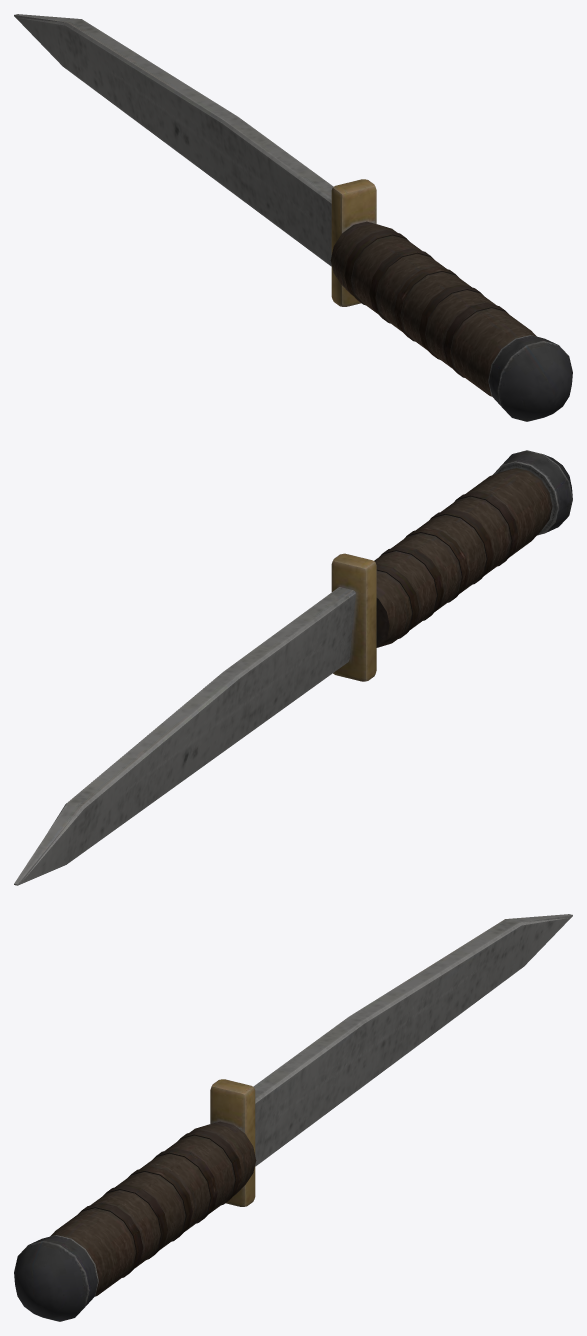
The model's file is explorer_knife.glb.
The picture shows the model from 3 angles, top to bottom: view 1: azimuth 30°, elevation 25°; view 2: azimuth 150°, elevation 25°; view 3: azimuth 330°, elevation 25°; orthographic projection.
Parts seen in each view (by area): view 1: explorer_knife; view 2: explorer_knife; view 3: explorer_knife.
Boxes of the visible parts, bbox=[...] form: explorer_knife: bbox=[14, 14, 572, 421]; explorer_knife: bbox=[14, 450, 572, 885]; explorer_knife: bbox=[14, 914, 572, 1321].
Size of the model in its own units: 0.028 by 0.0416 by 0.3472.
1 material, 1 textured.
